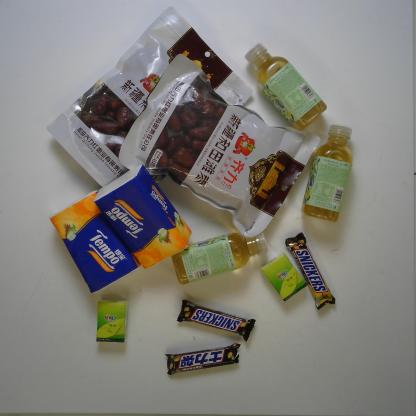Chocolate: (284, 232, 336, 312), (175, 298, 257, 343), (164, 341, 240, 376)
Dried Food: (45, 5, 255, 189), (118, 51, 323, 239)
Drink: (244, 42, 328, 132), (300, 122, 354, 224), (171, 231, 269, 287)
Tissue: (92, 163, 192, 271), (48, 188, 143, 295), (259, 251, 309, 304), (95, 297, 130, 345)
